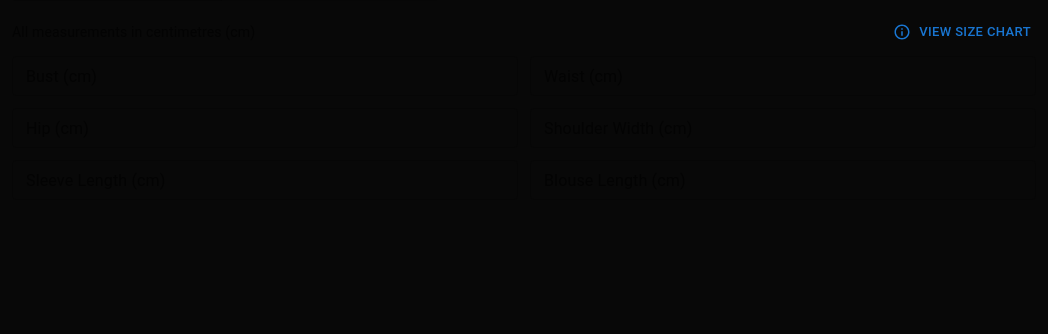
Test: MeasurementForm size chart › clicking the toggle reveals the chart and flips the button label
The width and height of the screenshot is (1048, 334).
Click the button "View Size Chart". click: (963,32)
box: [890, 17, 1036, 48]
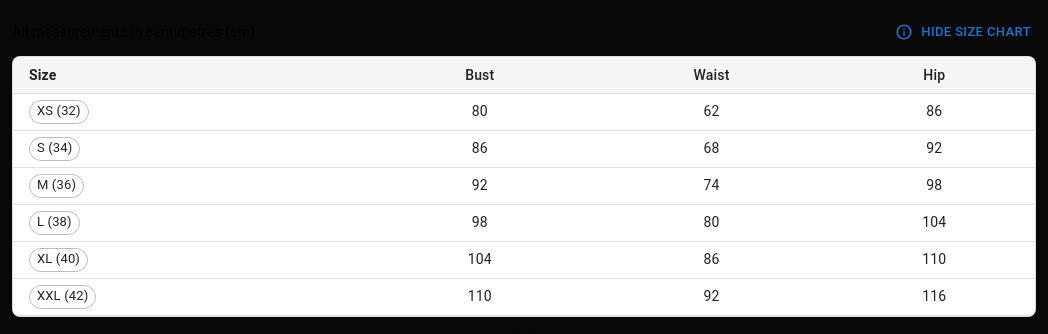
Expected: the text "XS (32)" is shown, [37, 103, 81, 118]
Expected: the button "Hide Size Chart" is shown, [892, 17, 1036, 48]
